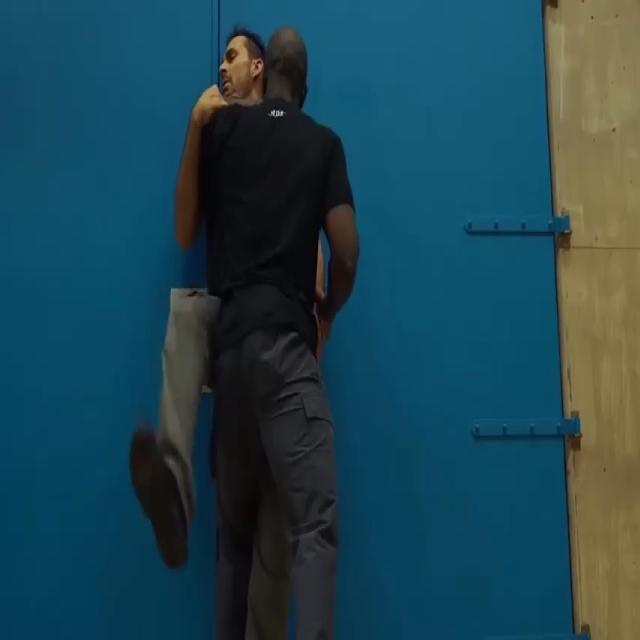fight: (124, 18, 364, 634)
